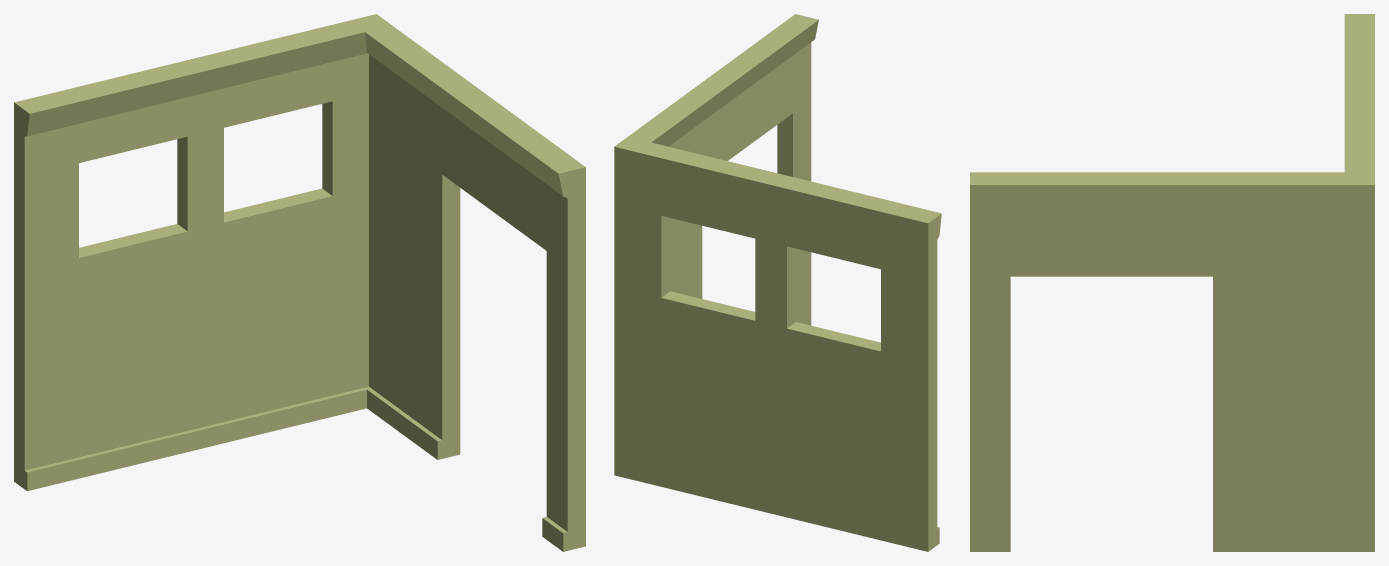
Rendered from Wal_4_12.fbx.
The picture shows the model from 3 angles, left to right: view 1: azimuth 30°, elevation 25°; view 2: azimuth 150°, elevation 25°; view 3: azimuth 270°, elevation 25°; orthographic projection. The views are drawn at different scales.
Parts seen in each view (by area): view 1: polySurface1983; view 2: polySurface1983; view 3: polySurface1983.
Boxes of the visible parts, x1=… form: polySurface1983: x1=14, y1=14, x2=585, y2=551; polySurface1983: x1=614, y1=14, x2=941, y2=551; polySurface1983: x1=970, y1=14, x2=1374, y2=551.
Size of the model in its own units: 4 by 4 by 4.
1 material, 1 textured.
